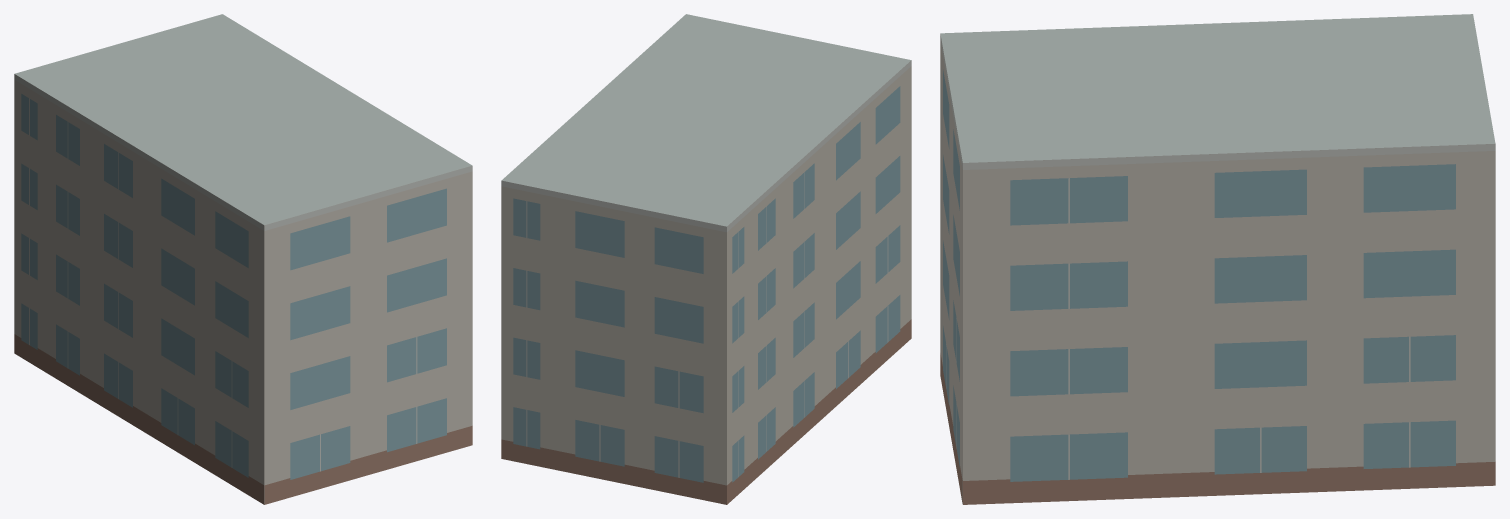
File: survey-upis-33044573.glb
3 views of the same model, side by side, from view 1: azimuth 30°, elevation 25°; view 2: azimuth 150°, elevation 25°; view 3: azimuth 270°, elevation 25° (orthographic). The views are drawn at different scales.
Visible parts, largest first — view 1: survey-upis-33044573.tmp; view 2: survey-upis-33044573.tmp; view 3: survey-upis-33044573.tmp.
Boxes of the visible parts, left/top/right/bottom form: survey-upis-33044573.tmp: left=14, top=14, right=472, bottom=504; survey-upis-33044573.tmp: left=501, top=14, right=911, bottom=504; survey-upis-33044573.tmp: left=940, top=14, right=1495, bottom=504.
Bounding box in the file's own units: 11.04 × 11.8 × 17.38.
